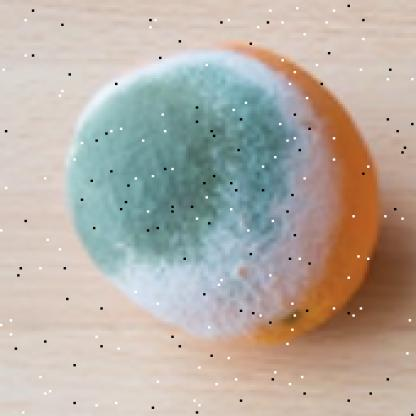rotten: (65, 37, 380, 349)
